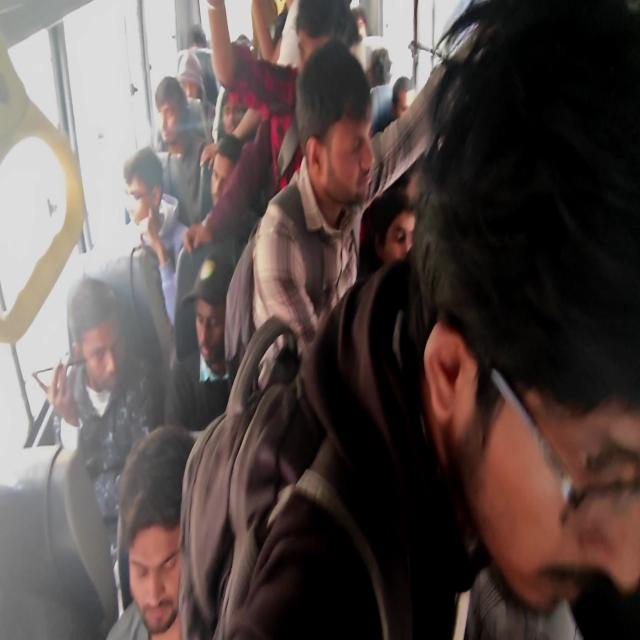person: (431, 53, 640, 640), (116, 420, 224, 640), (44, 271, 140, 454), (289, 69, 373, 206), (175, 282, 224, 378), (288, 0, 346, 57), (126, 154, 170, 217), (148, 75, 184, 142), (208, 146, 239, 223), (349, 40, 405, 78), (369, 195, 406, 251), (220, 93, 243, 128), (392, 92, 412, 116), (183, 59, 198, 90), (186, 26, 202, 54)
